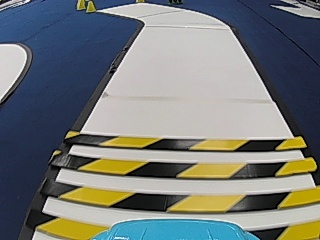bump: (81, 134, 287, 221)
